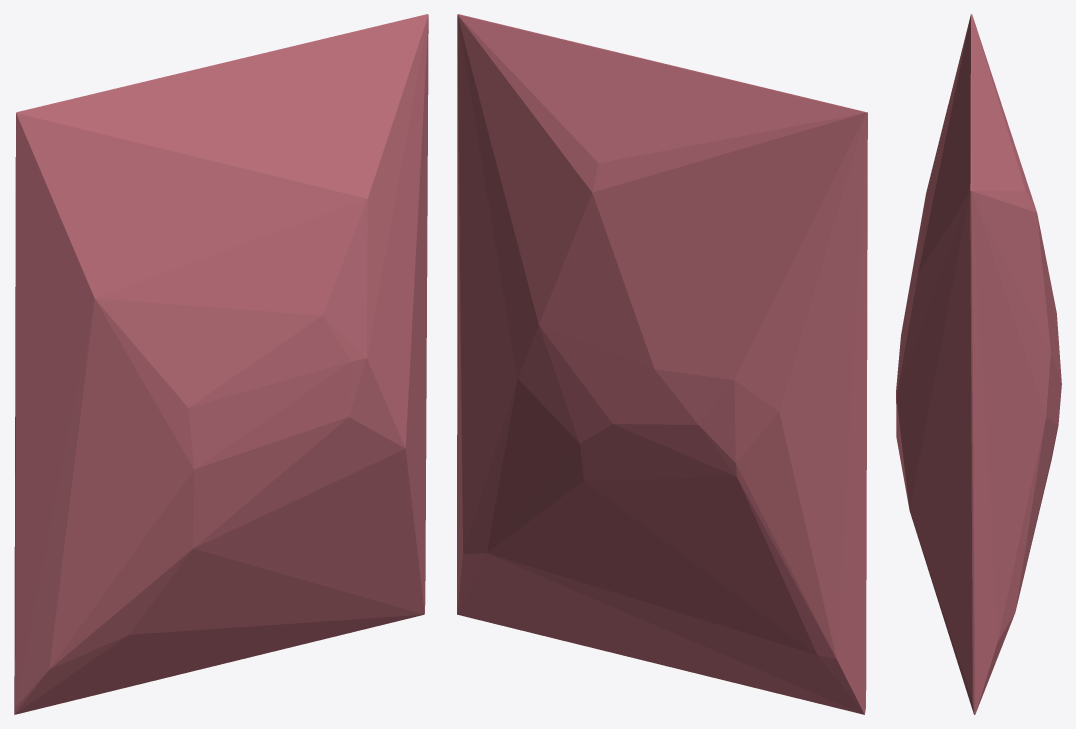
File: food_processed_chips_h01.glb
3 renders of one model, left to right at view 1: azimuth 30°, elevation 25°; view 2: azimuth 150°, elevation 25°; view 3: azimuth 270°, elevation 25°, orthographic. The views are drawn at different scales.
Parts seen in each view (by area): view 1: geometry_0; view 2: geometry_0; view 3: geometry_0.
Part boxes in pixels (box(x1,y1,x2,y2)): geometry_0: box(14, 14, 428, 714); geometry_0: box(457, 14, 867, 714); geometry_0: box(896, 14, 1061, 714).
Bounding box in the file's own units: 0.3428 × 0.4799 × 0.1369.
